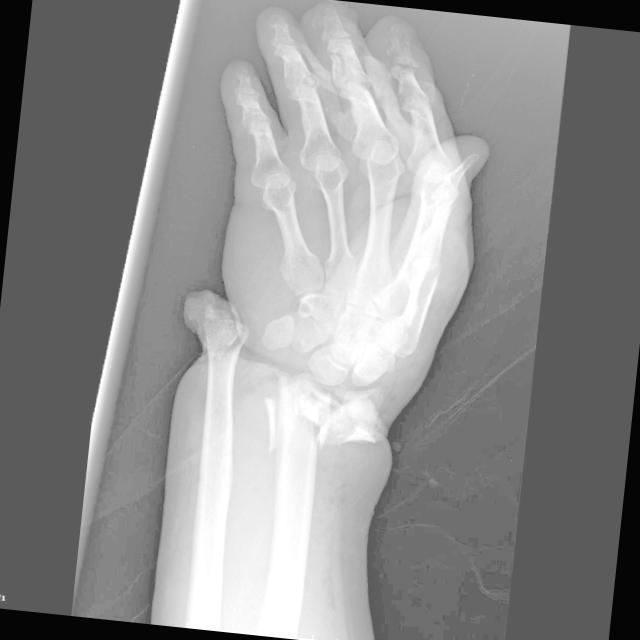Fracture Dislocation: (180, 285, 281, 399)
